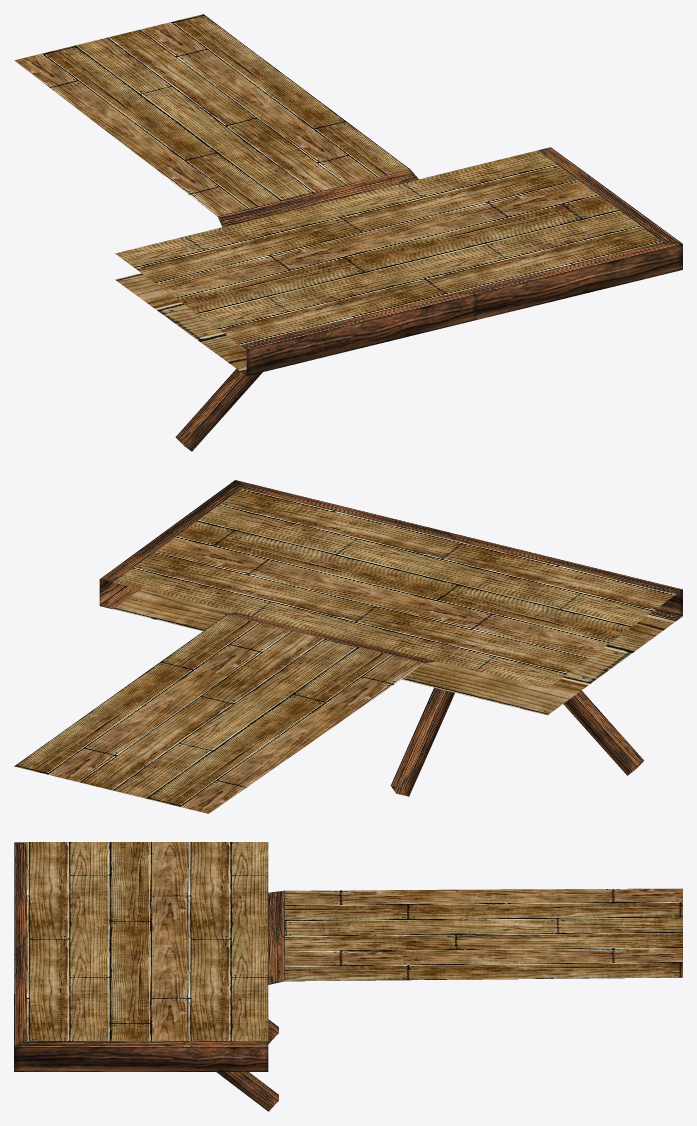
Rendered from LAKETOWN_WAREHOUSE3_PS_WH3_PLATFORM33838__GX.fbx.
The picture shows the model from 3 angles, top to bottom: view 1: azimuth 30°, elevation 25°; view 2: azimuth 150°, elevation 25°; view 3: azimuth 270°, elevation 25°; orthographic projection. The views are drawn at different scales.
Parts seen in each view (by area): view 1: LAKETOWN_WAREHOUSE3_PS_WH3_PLATFORM33838__GX; view 2: LAKETOWN_WAREHOUSE3_PS_WH3_PLATFORM33838__GX; view 3: LAKETOWN_WAREHOUSE3_PS_WH3_PLATFORM33838__GX.
Part boxes in pixels (x1,y1,x2,y2): LAKETOWN_WAREHOUSE3_PS_WH3_PLATFORM33838__GX: [14, 14, 682, 451]; LAKETOWN_WAREHOUSE3_PS_WH3_PLATFORM33838__GX: [14, 480, 682, 813]; LAKETOWN_WAREHOUSE3_PS_WH3_PLATFORM33838__GX: [14, 842, 682, 1111].
Size of the model in its own units: 61903 by 19178 by 82900.
3 materials, 3 textured.
